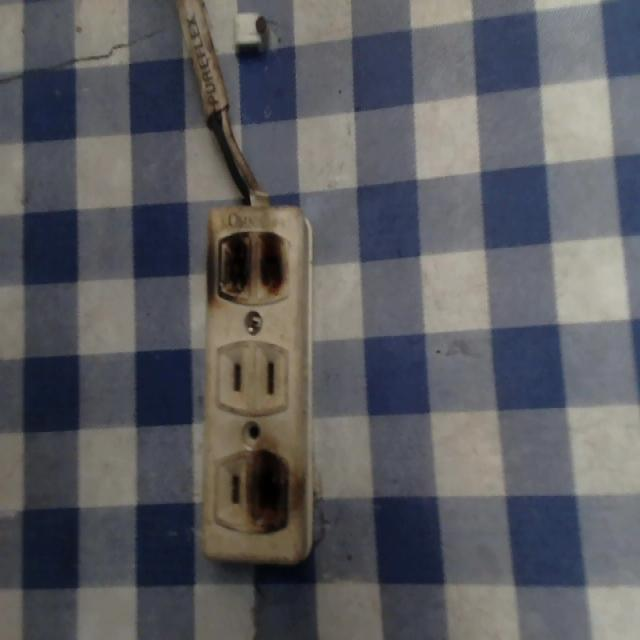-: (201, 223, 296, 308), (241, 442, 303, 538)
